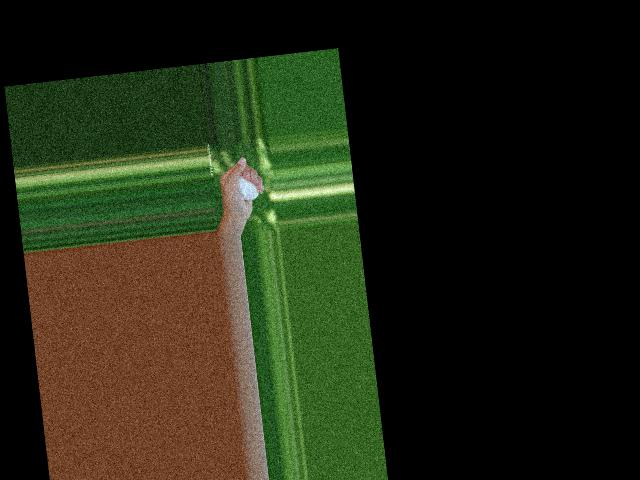egg: (237, 173, 259, 201)
